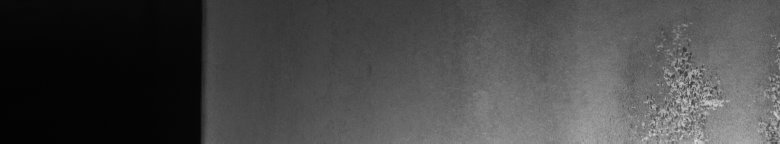hc: (632, 23, 776, 136)
